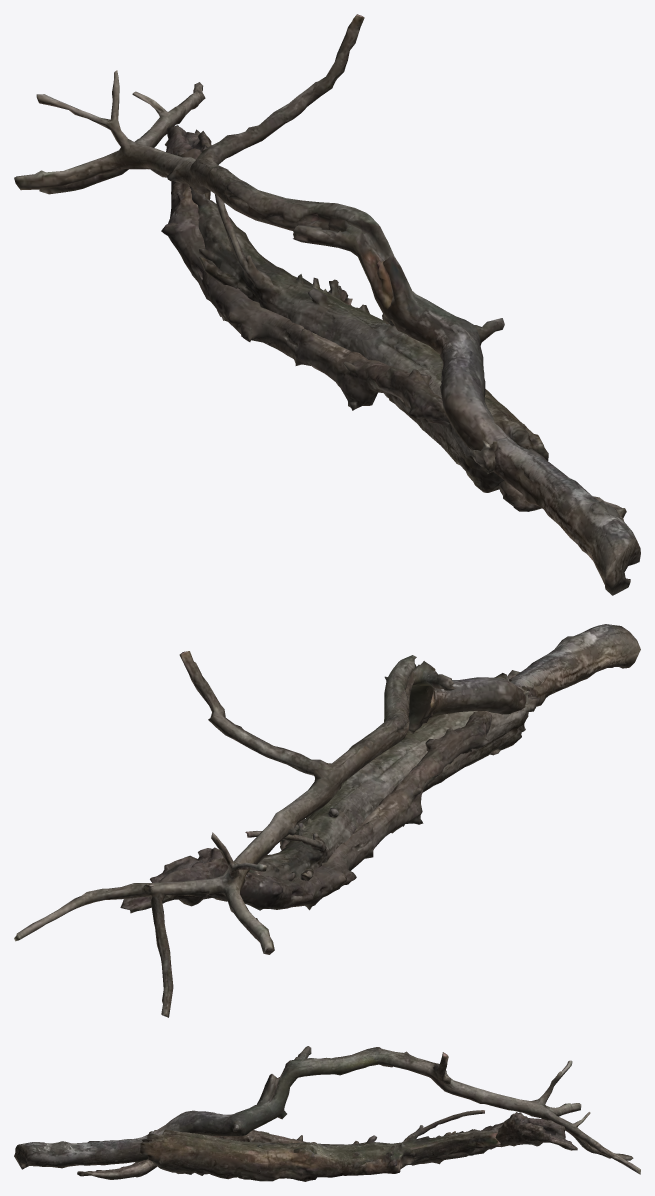
Rendered from dry_branches_medium_01.glb.
3 views of the same model, one above another, from view 1: azimuth 30°, elevation 25°; view 2: azimuth 150°, elevation 25°; view 3: azimuth 270°, elevation 25° (orthographic). The views are drawn at different scales.
Parts seen in each view (by area): view 1: dry_branches_medium_01_a_lod0, dry_branches_medium_01_c_lod0, dry_branches_medium_01_b_lod0; view 2: dry_branches_medium_01_a_lod0, dry_branches_medium_01_b_lod0, dry_branches_medium_01_c_lod0; view 3: dry_branches_medium_01_a_lod0, dry_branches_medium_01_c_lod0, dry_branches_medium_01_b_lod0.
Part boxes in pixels (x1,y1,x2,y2): dry_branches_medium_01_a_lod0: (14, 14, 640, 595); dry_branches_medium_01_c_lod0: (189, 186, 548, 492); dry_branches_medium_01_b_lod0: (161, 125, 626, 520); dry_branches_medium_01_a_lod0: (14, 624, 640, 1017); dry_branches_medium_01_b_lod0: (120, 670, 525, 913); dry_branches_medium_01_c_lod0: (245, 673, 539, 881); dry_branches_medium_01_a_lod0: (14, 1046, 640, 1174); dry_branches_medium_01_c_lod0: (140, 1110, 504, 1181); dry_branches_medium_01_b_lod0: (77, 1112, 577, 1179).
Size of what is drawn, in the model's own units: 0.3227 by 0.3411 by 1.3.
1 material, 1 textured.
